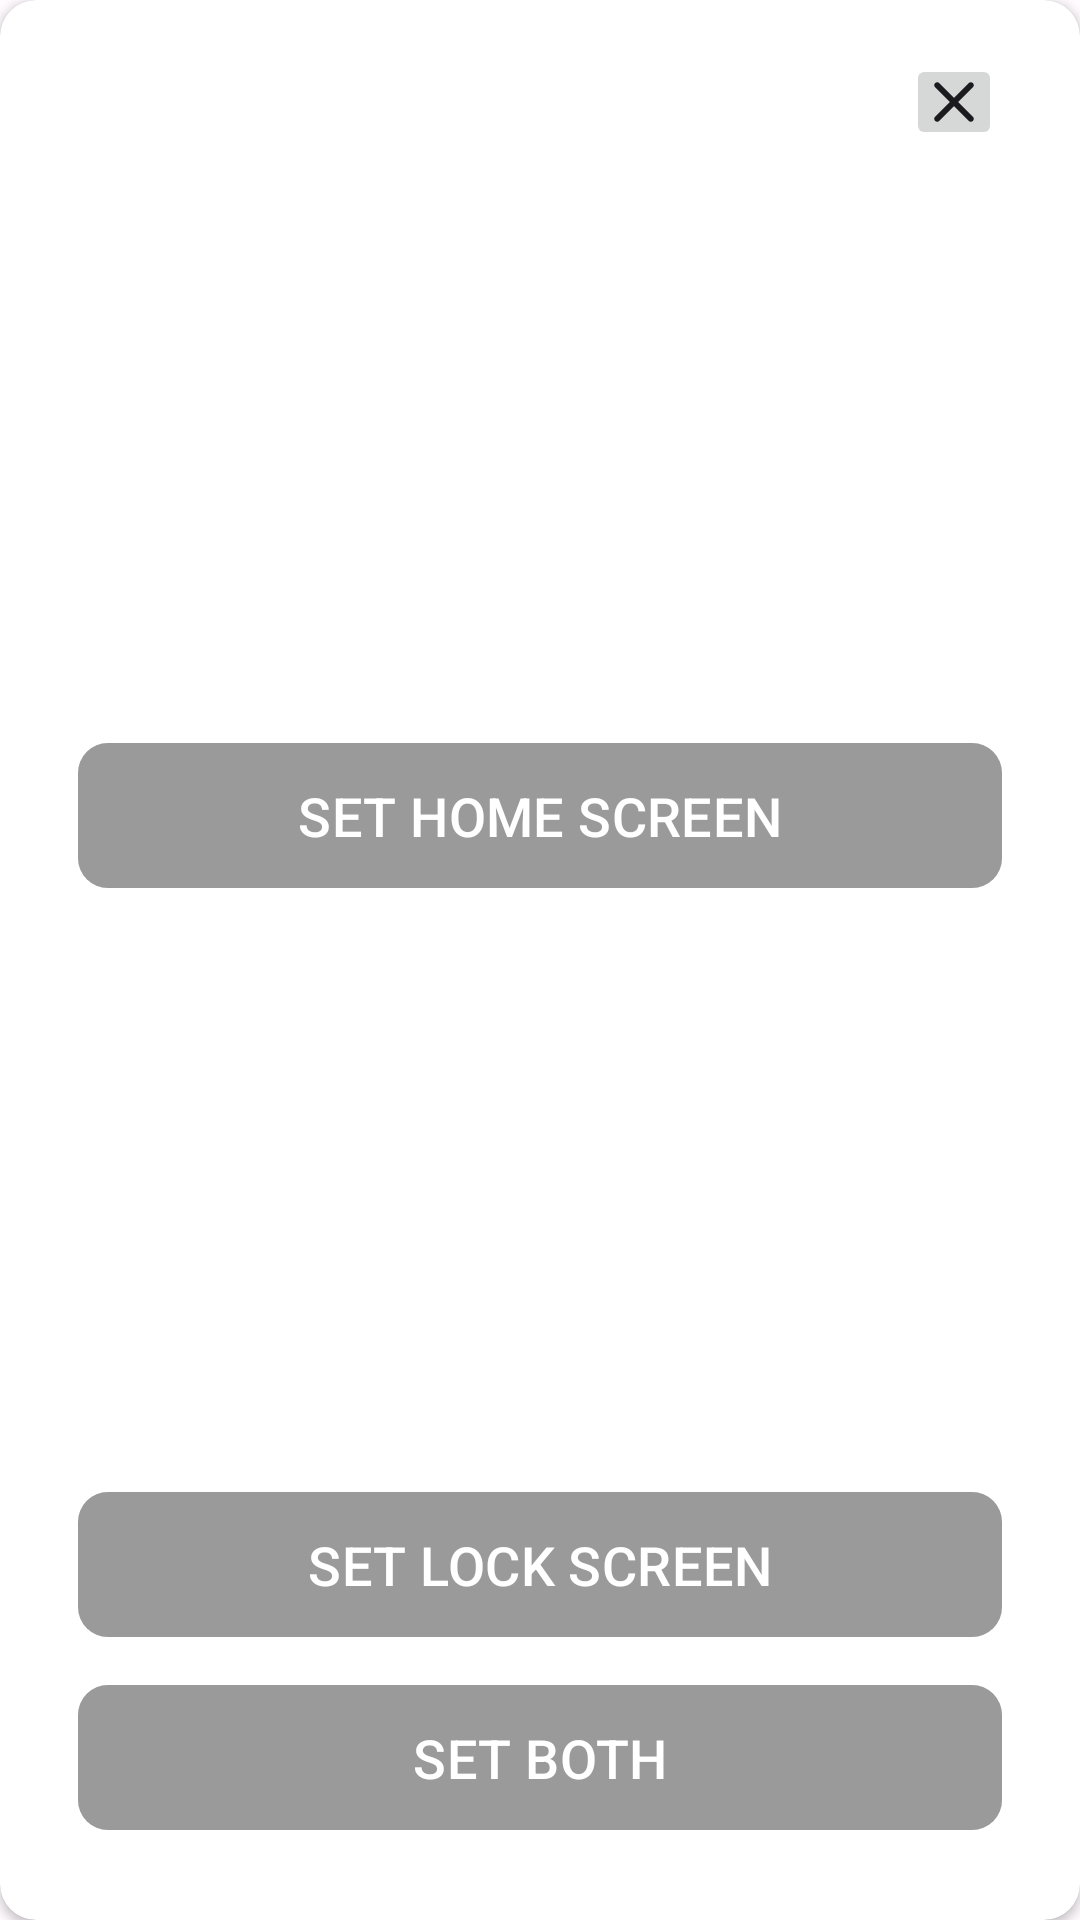

Where to tap for icons on this 1080 × 1920 app screen, as (x,y):
clear: (954,102)
